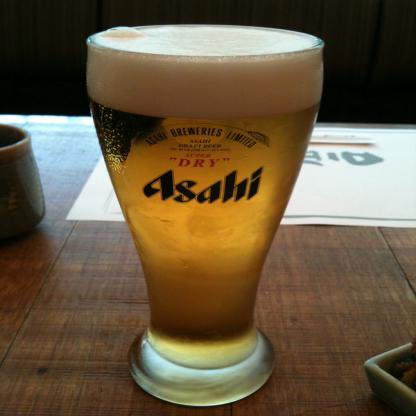drinking: (87, 24, 324, 406)
